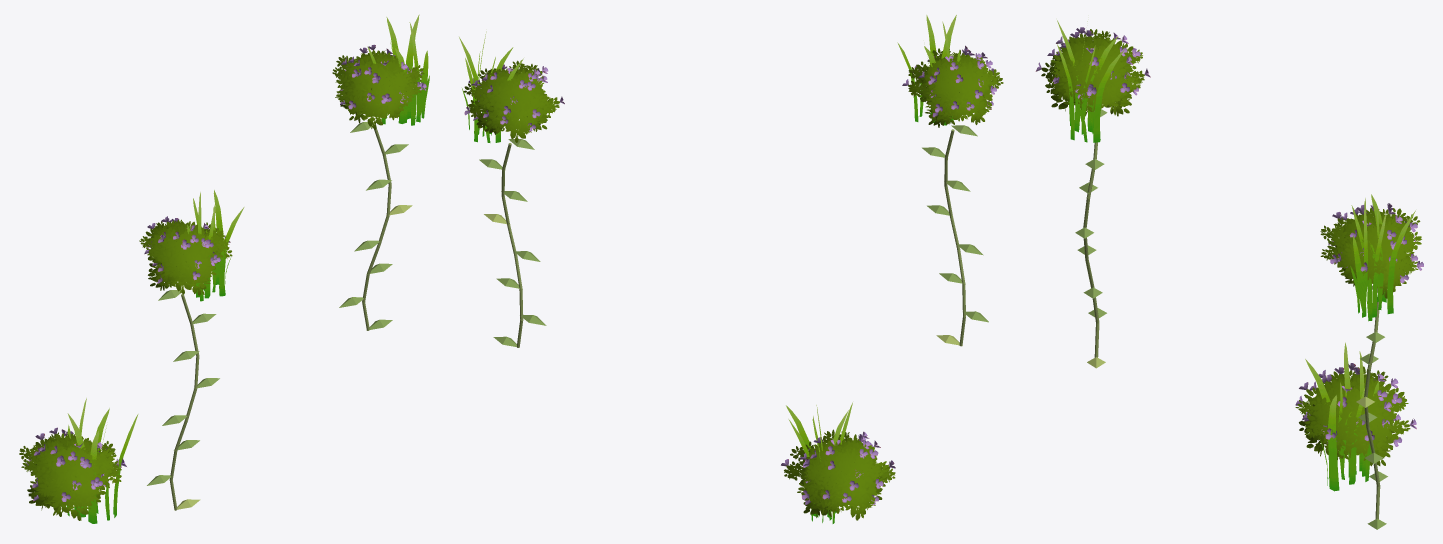
Rendered from Wayside_Shelter_Greenery.glb.
3 renders of one model, left to right at view 1: azimuth 30°, elevation 25°; view 2: azimuth 150°, elevation 25°; view 3: azimuth 270°, elevation 25°, orthographic. The views are drawn at different scales.
Visible parts, largest first — view 1: Patch_001, Patch_000, Patch_002; view 2: Patch_000, Patch_001, Patch_002; view 3: Patch_000, Patch_001, Patch_002.
Part boxes in pixels (x1,y1,x2,y2): Patch_001: (332,14,429,330); Patch_000: (139,190,244,510); Patch_002: (19,398,138,523); Patch_000: (897,15,1003,346); Patch_001: (459,31,564,347); Patch_002: (781,402,895,523); Patch_000: (1035,20,1150,368); Patch_001: (1320,194,1423,529); Patch_002: (1295,342,1416,491).
Bounding box in the file's own units: 3.68 × 3.47 × 2.66.
6 materials, 3 textured.
